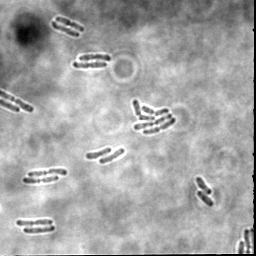Dividing: (1, 90, 35, 113), (54, 15, 85, 33), (51, 20, 80, 39), (26, 167, 68, 179), (76, 52, 113, 63), (22, 175, 60, 185), (71, 61, 108, 70)
Microcolony: (131, 98, 176, 136)
Rod: (99, 147, 125, 165), (85, 146, 112, 160), (194, 176, 212, 195), (22, 225, 55, 235), (195, 190, 213, 208), (1, 100, 20, 114)
